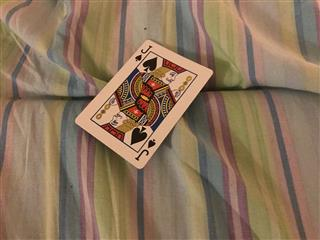JackOfSpades: (73, 38, 213, 169)
